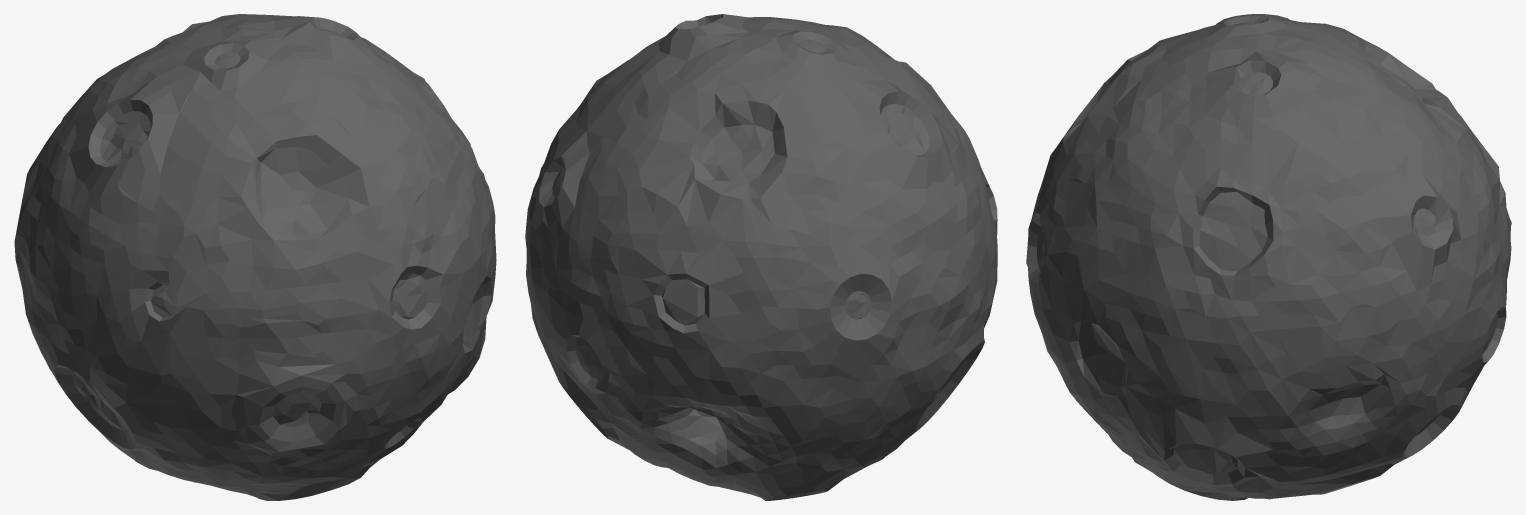
Rendered from Planet_32.glb.
The picture shows the model from 3 angles, left to right: view 1: azimuth 30°, elevation 25°; view 2: azimuth 150°, elevation 25°; view 3: azimuth 270°, elevation 25°; orthographic projection.
Parts seen in each view (by area): view 1: Planet_32; view 2: Planet_32; view 3: Planet_32.
Part boxes in pixels (left/top/right/bottom): Planet_32: left=14, top=14, right=496, bottom=500; Planet_32: left=525, top=14, right=997, bottom=500; Planet_32: left=1026, top=14, right=1511, bottom=500.
Bounding box in the file's own units: 20.08 × 20.59 × 20.23.
1 material, 1 textured.
